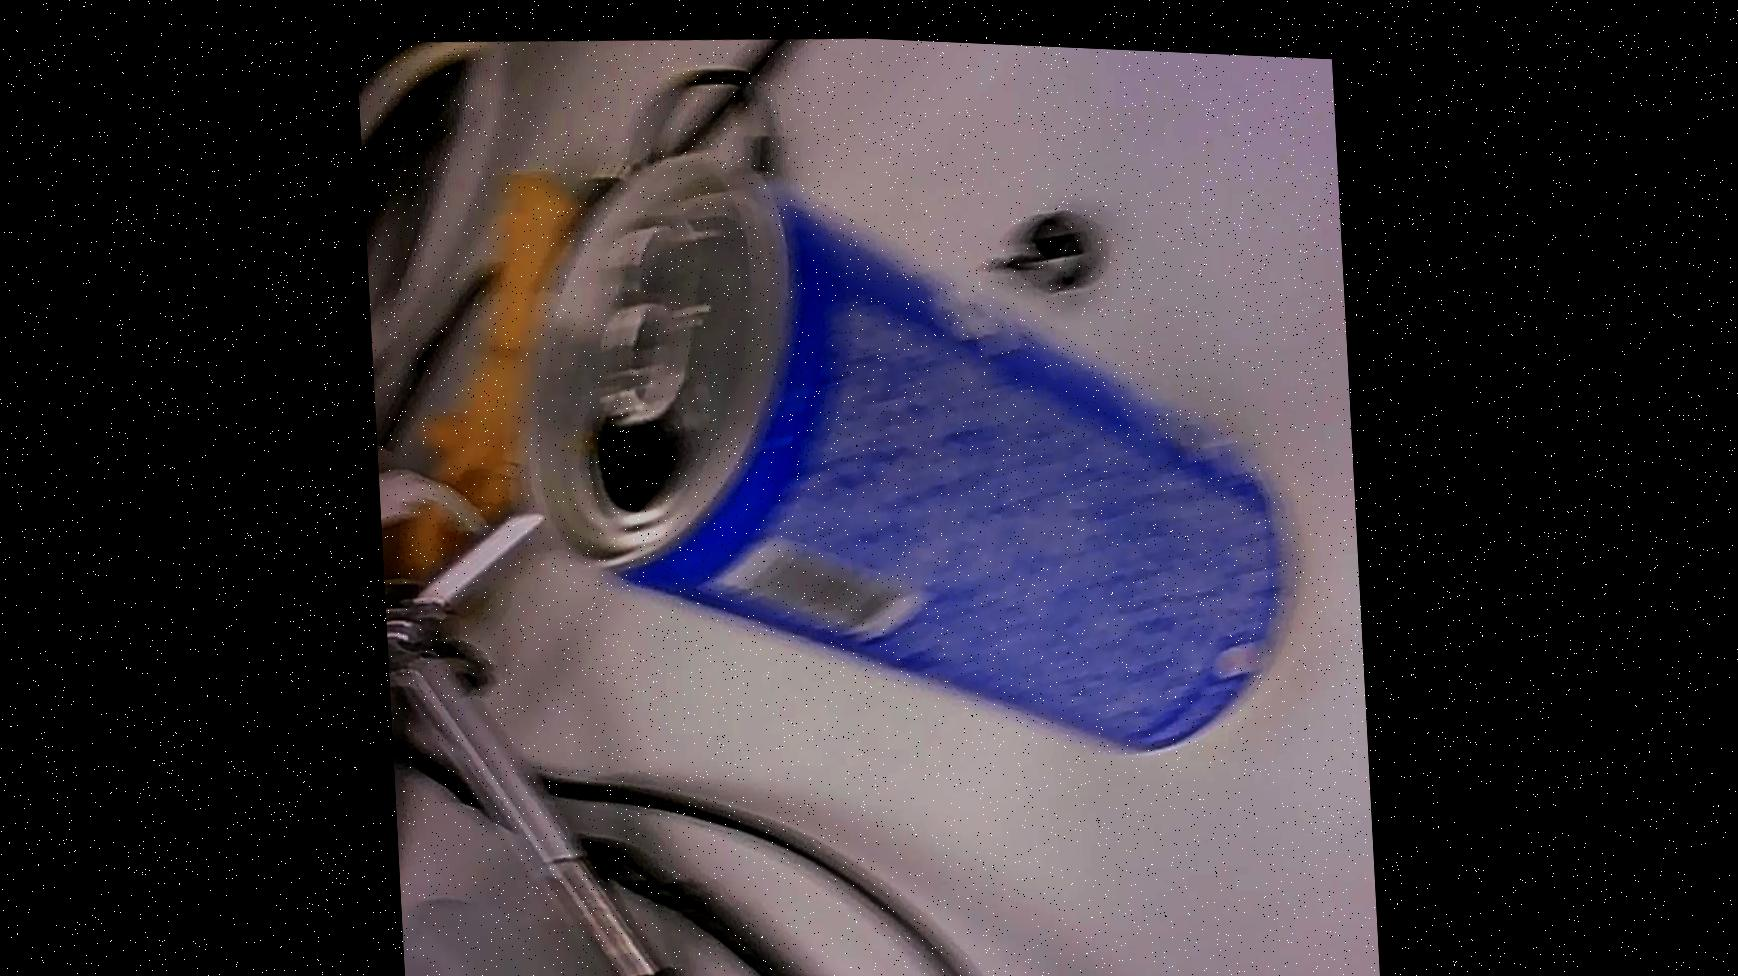letsbe: (511, 110, 1305, 780)
